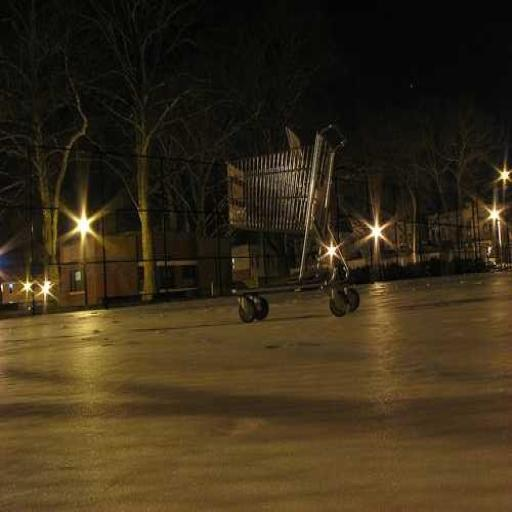shopping_cart: (226, 126, 362, 322)
